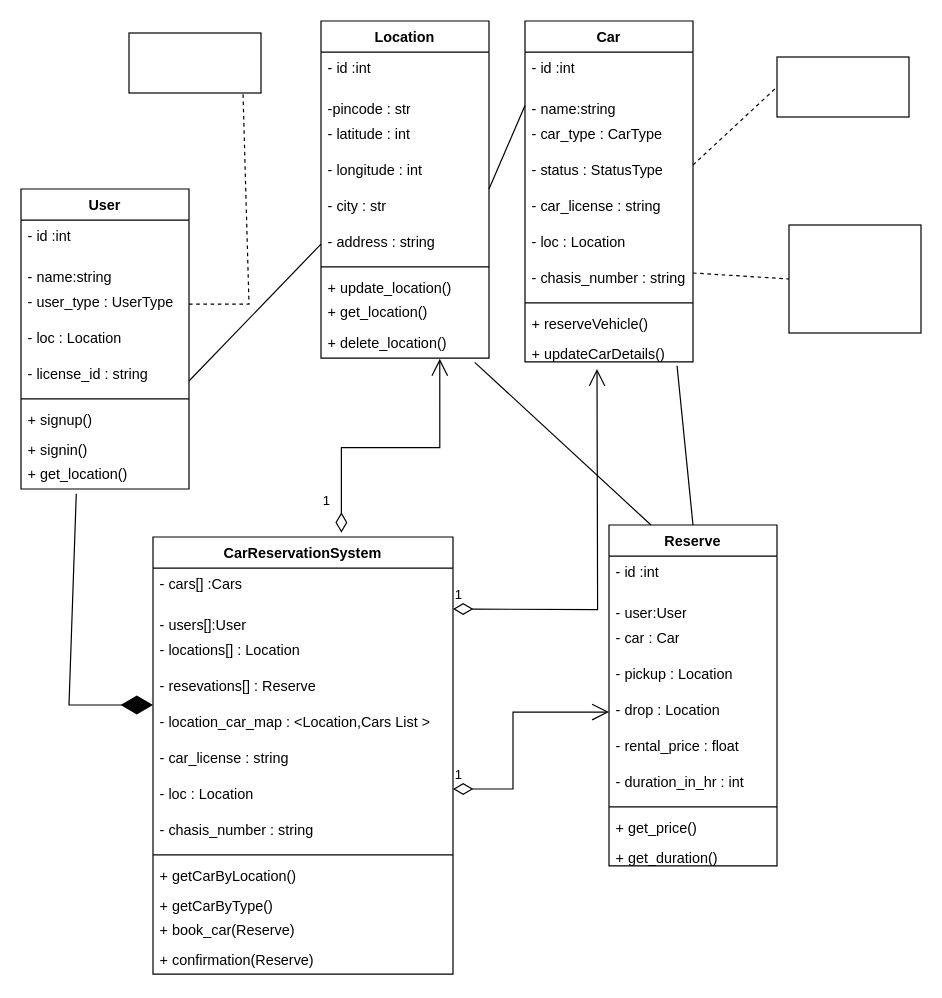
The diagram is 942 pixels wide and 998 high, and some of its shapes have lost their labels. The centre of each missing label's shape, as x and y in pixels:
"Enum : CarType Sedan : 1 XUV : 2" belongs at (842,86).
"Enum : StatusType Vacant : 1 Running : 2 Booked: 3 Inactive: 4" belongs at (854,278).
"Enum : UserType Customer : 1 Operator : 2" belongs at (194,62).
